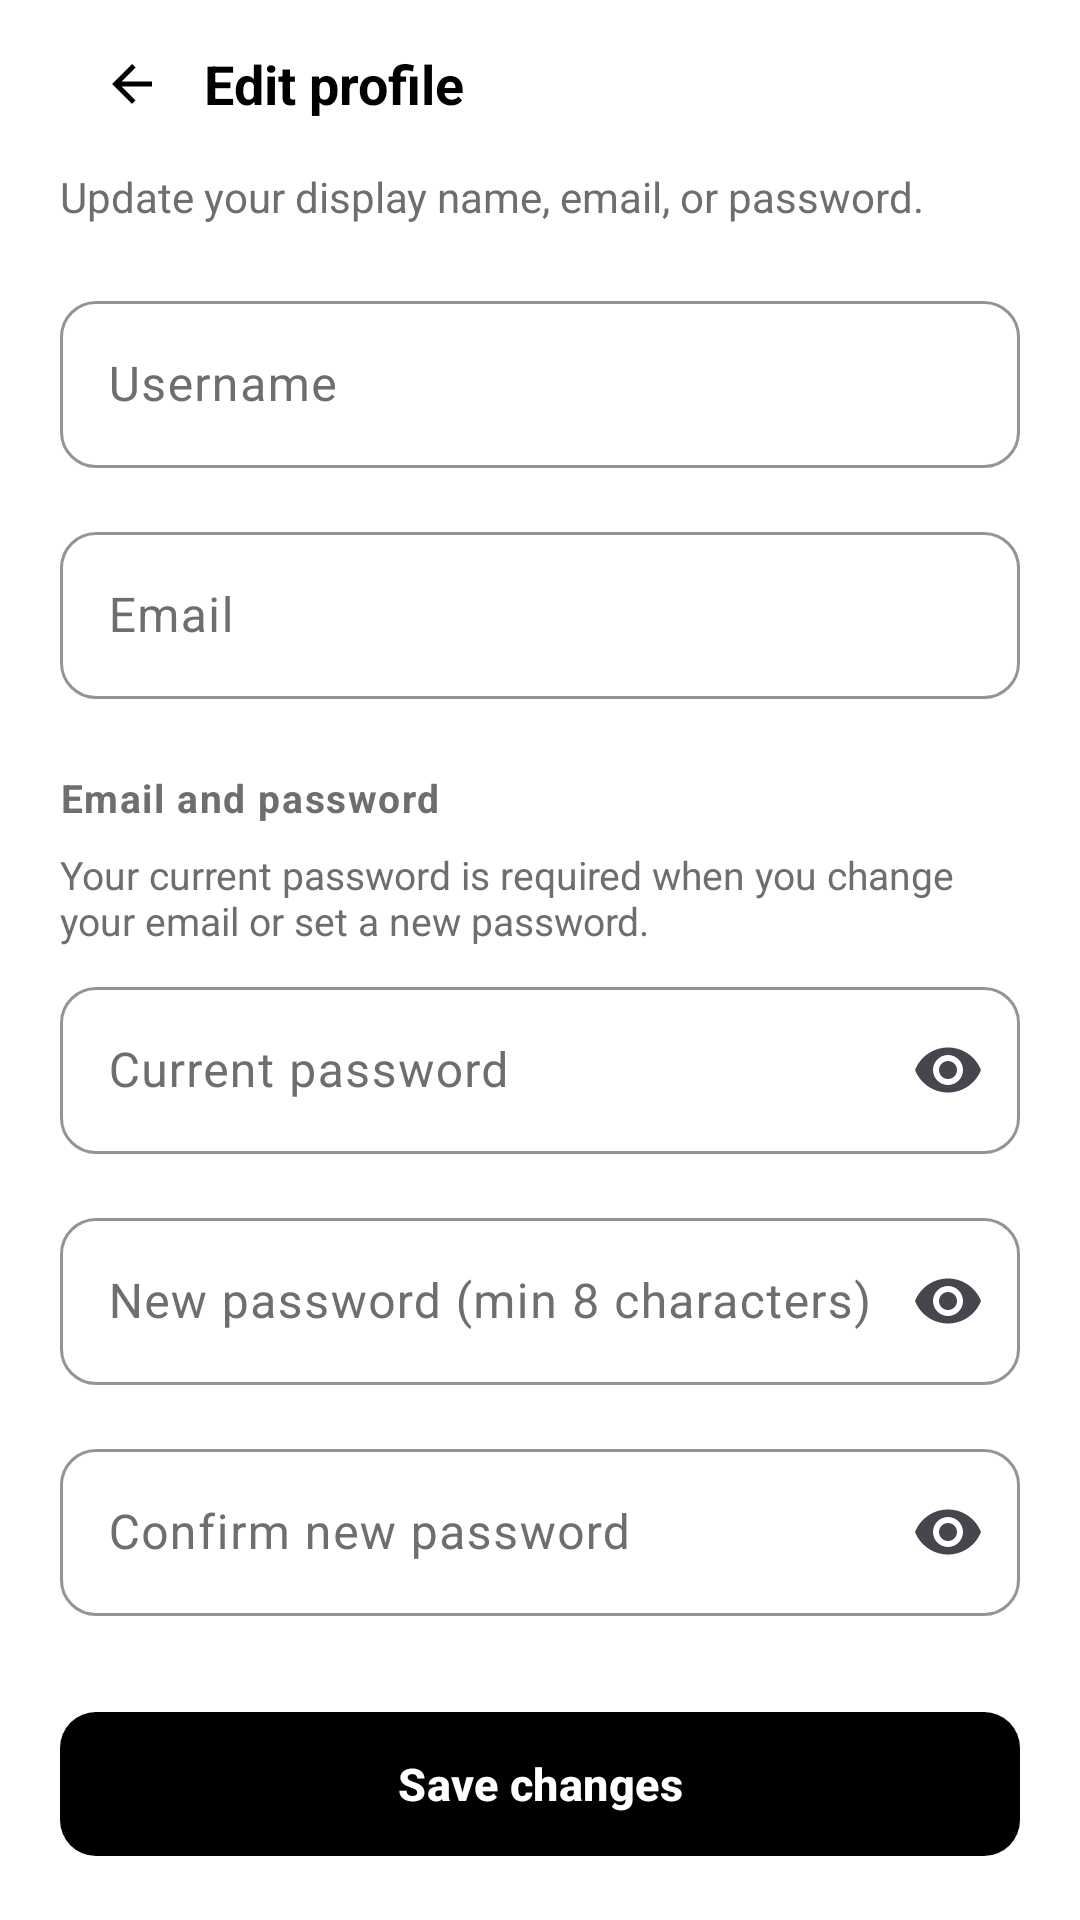

Icons on this 1080 x 1920 Android screen, each with the point to tap as [x,y]:
Back: [132,84]
